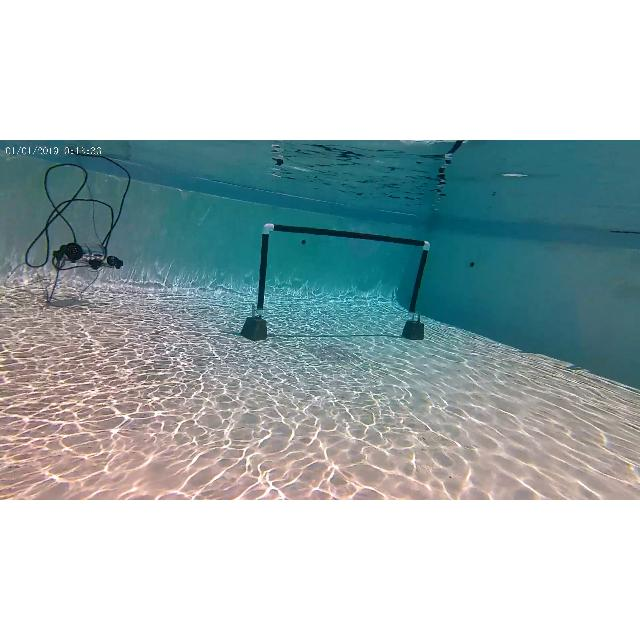prequal gate: (257, 223, 431, 317)
prequal gate leg l: (241, 220, 277, 342)
prequal gate leg r: (402, 236, 432, 340)
